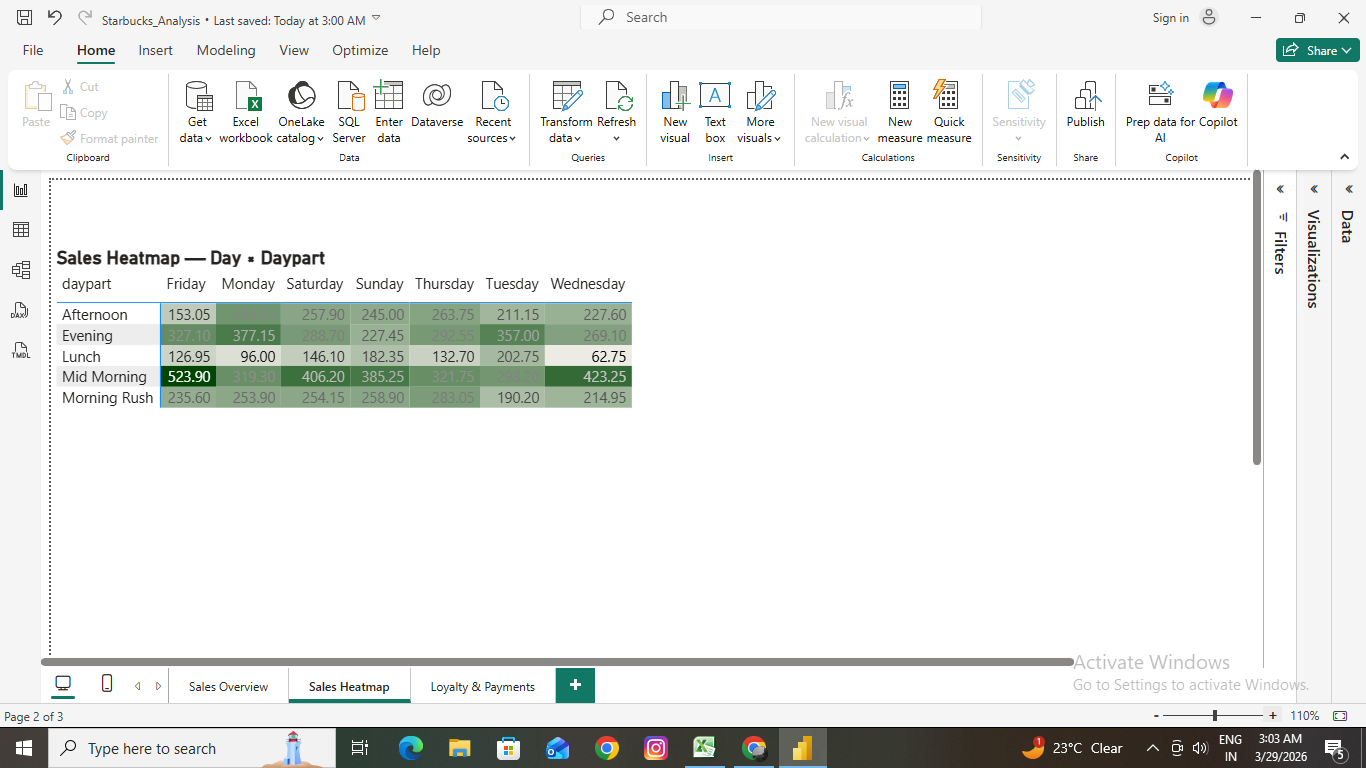

What the dashboard file says about the page in this screenshot:
{"tool":"powerbi","page":{"name":"Sales Heatmap","canvas":[1280,720],"ordinal":1},"visuals":[{"type":"pivotTable","title":"Sales Heatmap — Day × Daypart","fields":{"Rows":["Sheet1.daypart"],"Columns":["Sheet1.day_of_week"],"Values":["Sum(Sheet1.revenue)"]},"box":[0,60.2,1174,626],"z":0}]}

Visuals, with their boxes on the page's 1280x720 design canvas (x1, y1, x2, y2). These are canvas units, not pixel positions in the 1366x768 screenshot, which may show the page scaled, cropped or inside an application window:
"Sales Heatmap — Day × Daypart" pivotTable: (x1=0, y1=60, x2=1174, y2=686)
